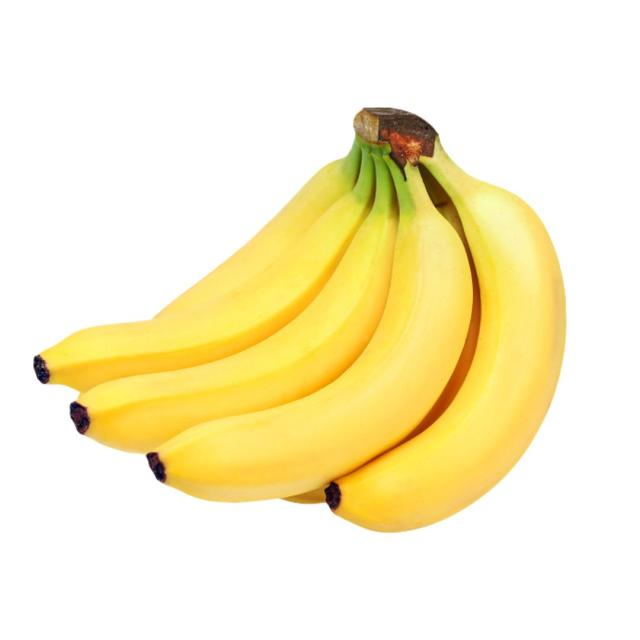Pisang: (26, 106, 566, 536)
